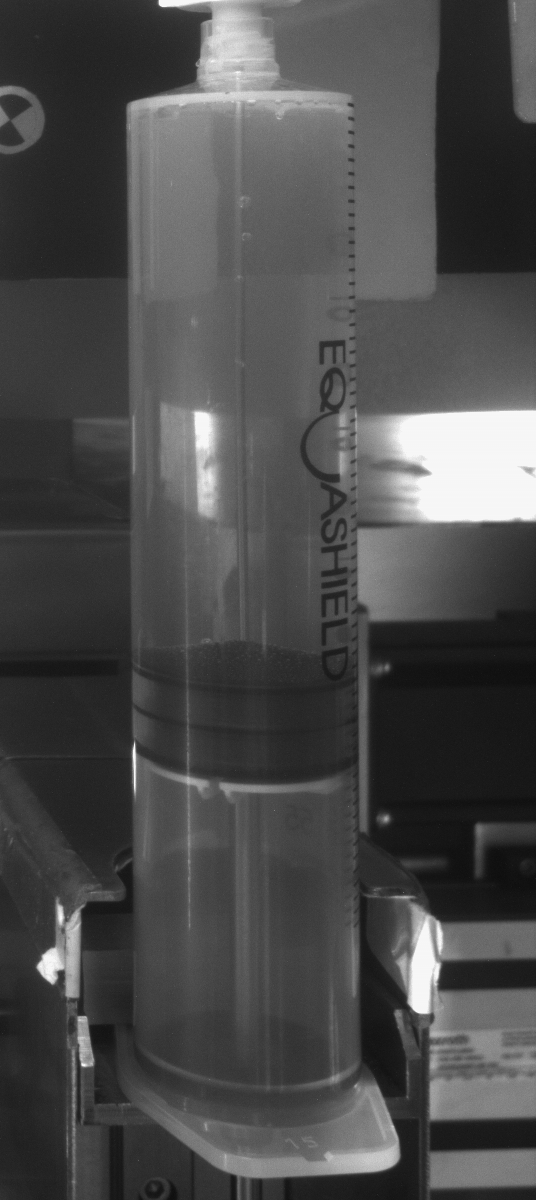piston: (131, 670, 360, 805)
